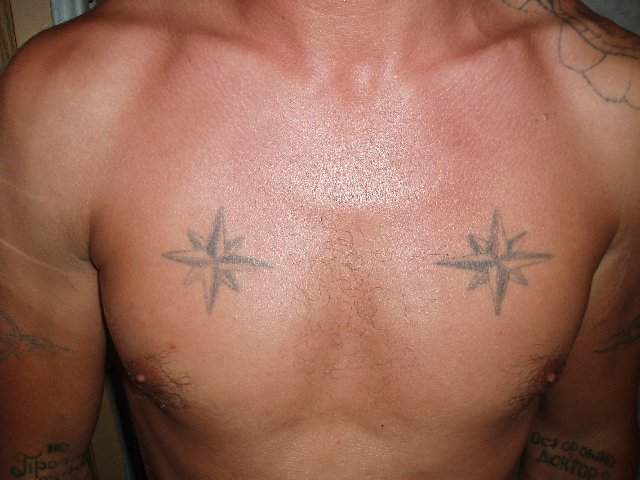tatu4_zvezda: (437, 209, 555, 315), (163, 209, 272, 321)
